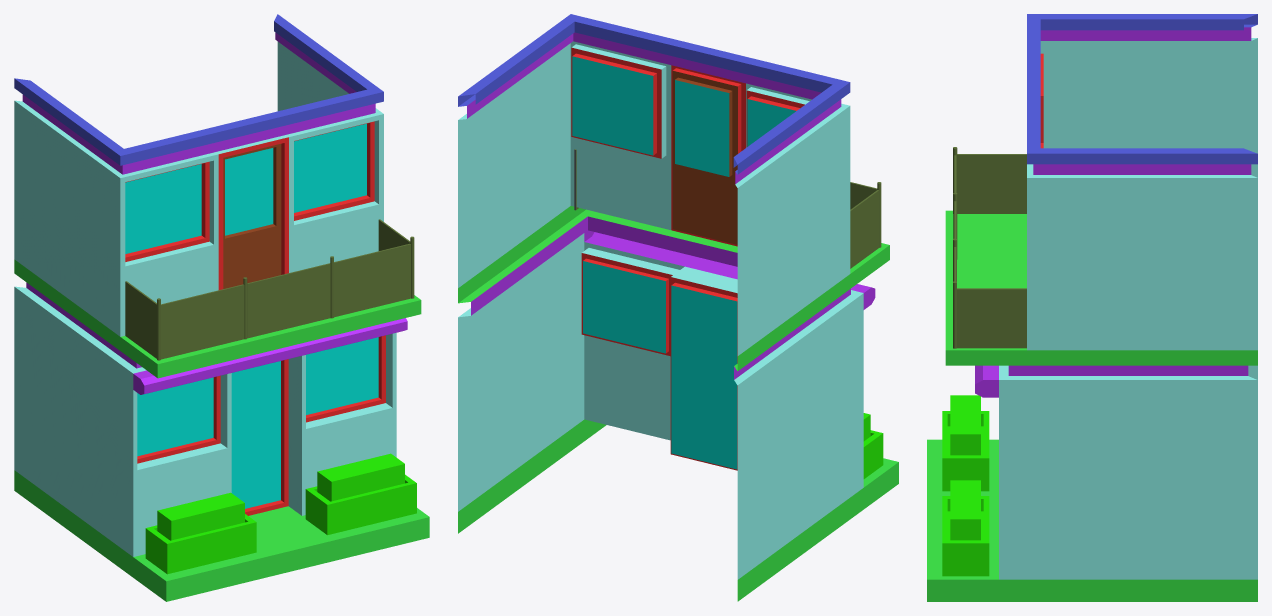
File: Building_2.FBX
The picture shows the model from 3 angles, left to right: view 1: azimuth 30°, elevation 25°; view 2: azimuth 150°, elevation 25°; view 3: azimuth 270°, elevation 25°; orthographic projection. The views are drawn at different scales.
Visible parts, largest first — view 1: Building_2; view 2: Building_2; view 3: Building_2.
Boxes of the visible parts, bbox=[...] form: Building_2: bbox=[14, 14, 429, 601]; Building_2: bbox=[458, 14, 898, 601]; Building_2: bbox=[927, 14, 1257, 601].
Bounding box in the file's own units: 400 × 400 × 598.
